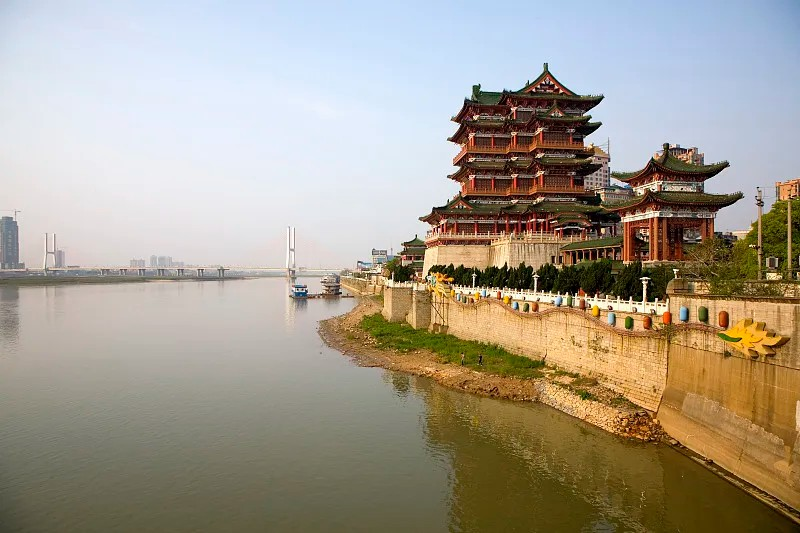Teng: (417, 63, 617, 239)
